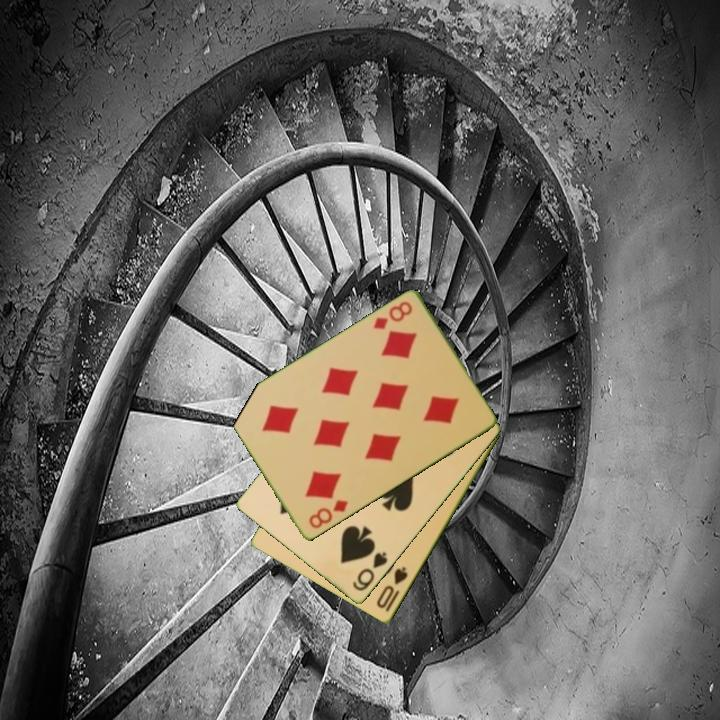10s: (373, 563, 411, 612)
6s: (349, 548, 390, 595)
8d: (305, 497, 351, 532), (369, 298, 415, 333)
